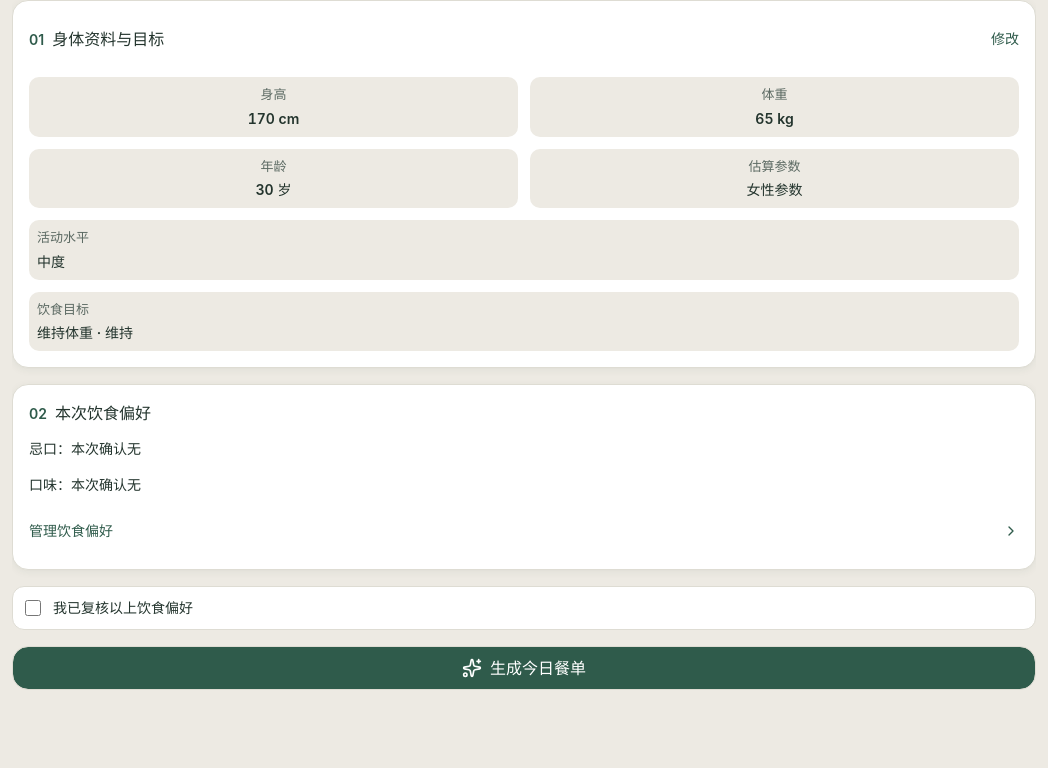
ProfileGoalForm › keeps server profile errors visible without silently writing the saved profile
The width and height of the screenshot is (1048, 768).
Expected: the text "170 cm" is shown, [248,110,299,126]
Click the checkbox labelled "我已复核以上饮食偏好": (33, 608) [25,600,41,616]
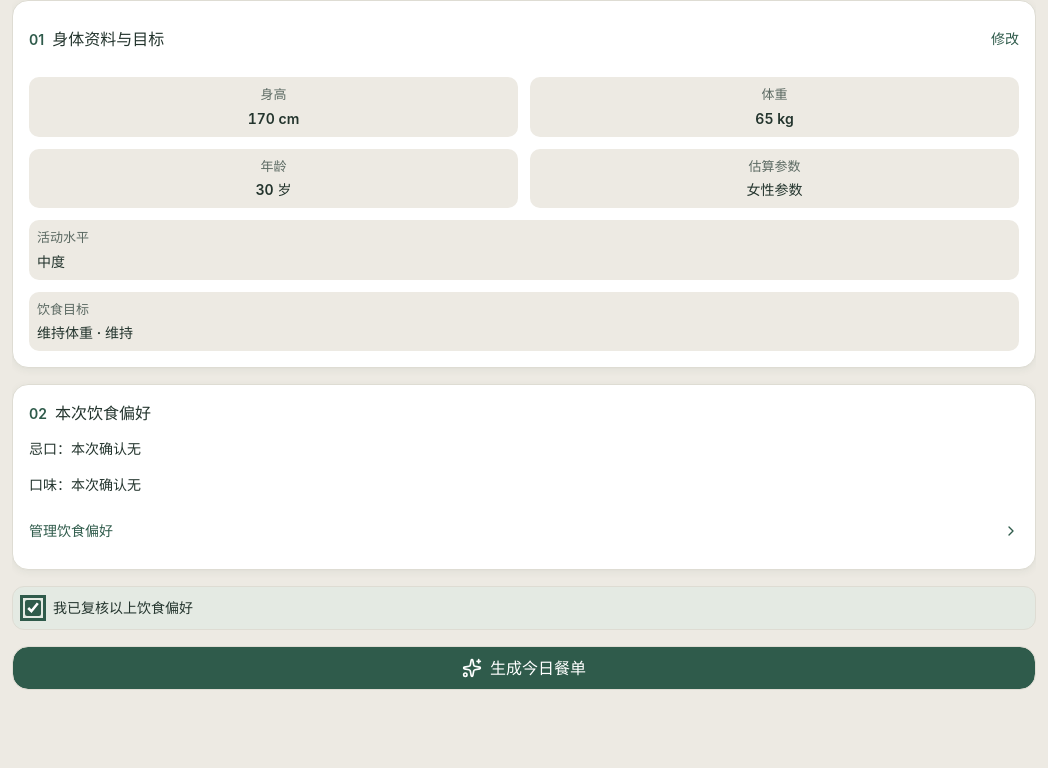
Click the button "生成今日餐单": (524, 668) [12,646,1036,690]
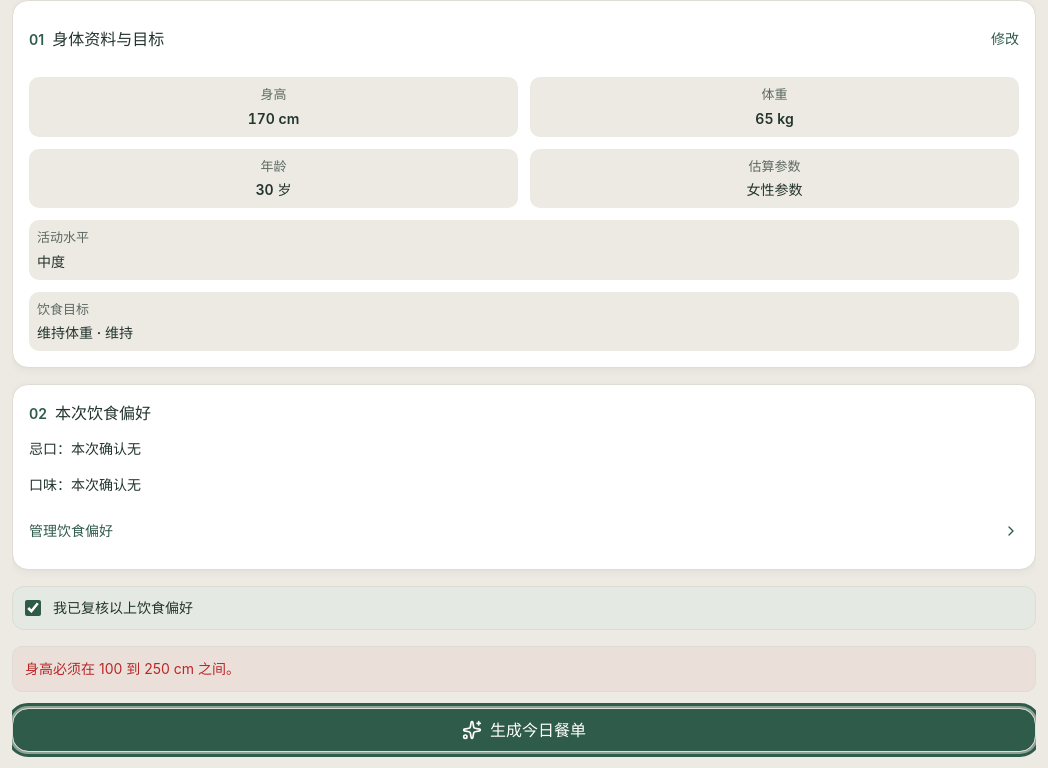
Result: the text "身高必须在 100 到 250 cm 之间。" is shown at [25,660,240,677]
